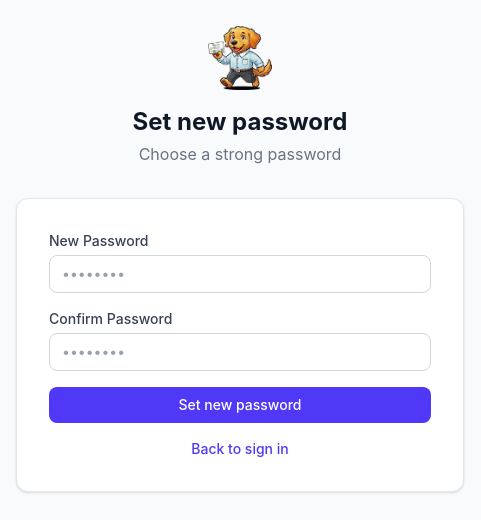
ResetPasswordPage › shows validation error when passwords do not match
Type "password123" into the password field labelled "New Password" at (240, 274), box [49, 255, 431, 293]
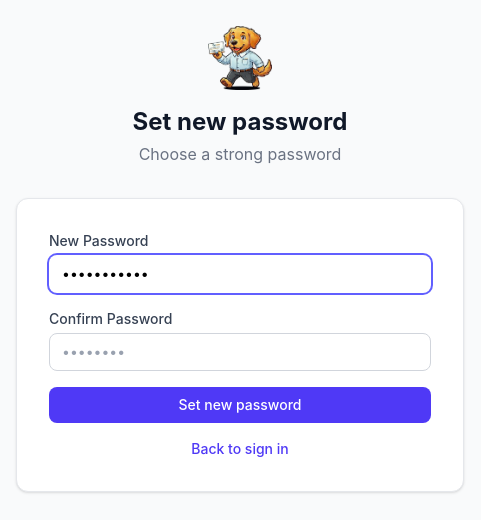
Type "different1" into the password field labelled "Confirm Password" at (240, 352), box [49, 333, 431, 371]
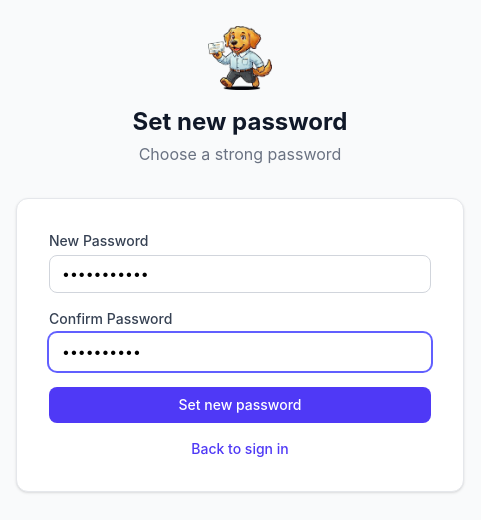
Click the button "Set new password" at (240, 405), box [49, 387, 431, 423]
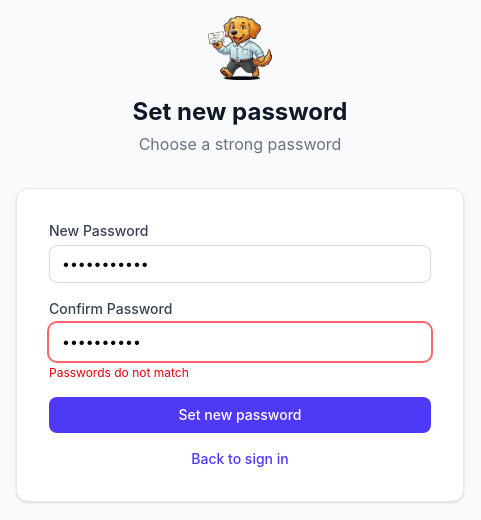
Expected: the text "Passwords do not match" is shown, [49, 365, 189, 380]
